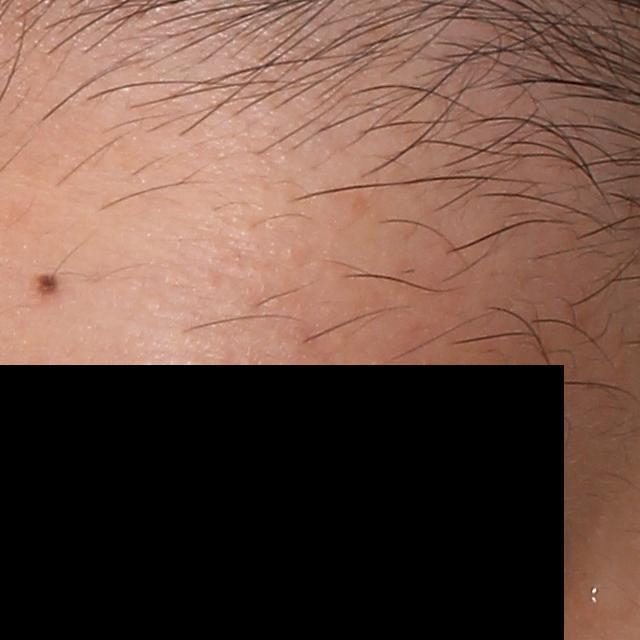nevus: (31, 270, 66, 302)
